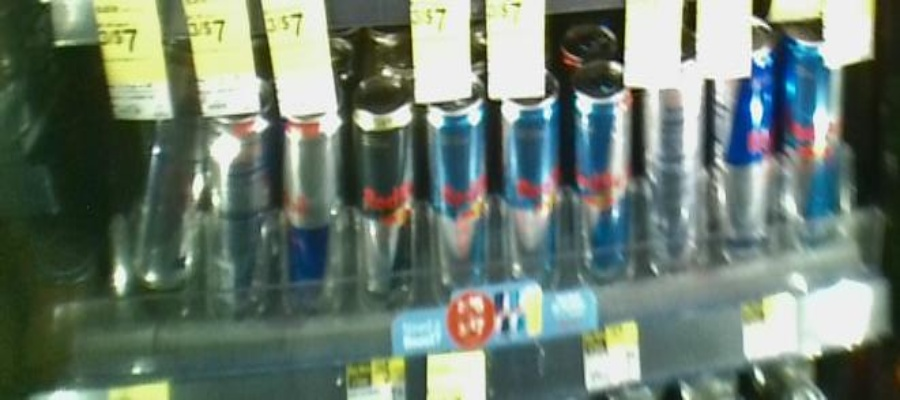bottle: (569, 65, 637, 329), (422, 78, 490, 335), (203, 82, 272, 335), (716, 33, 779, 298), (276, 85, 343, 333), (496, 73, 561, 327), (645, 56, 708, 311), (351, 87, 414, 333), (787, 25, 846, 262)
